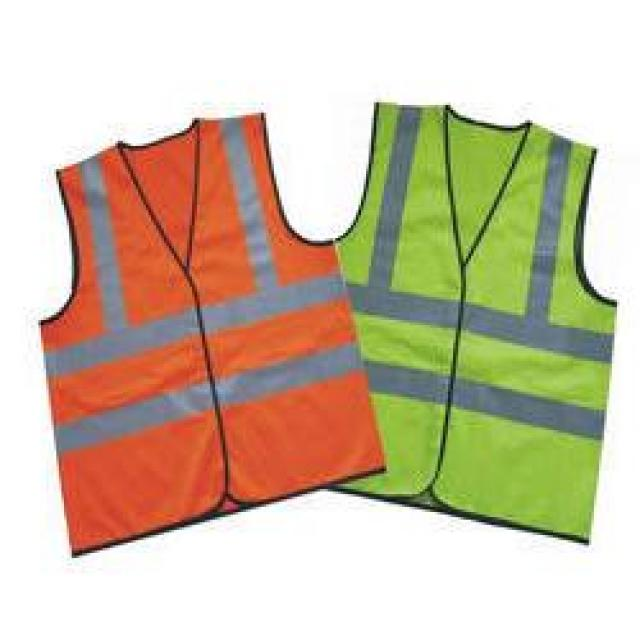Reflective-Jacket: (15, 100, 389, 535), (315, 90, 640, 530)
